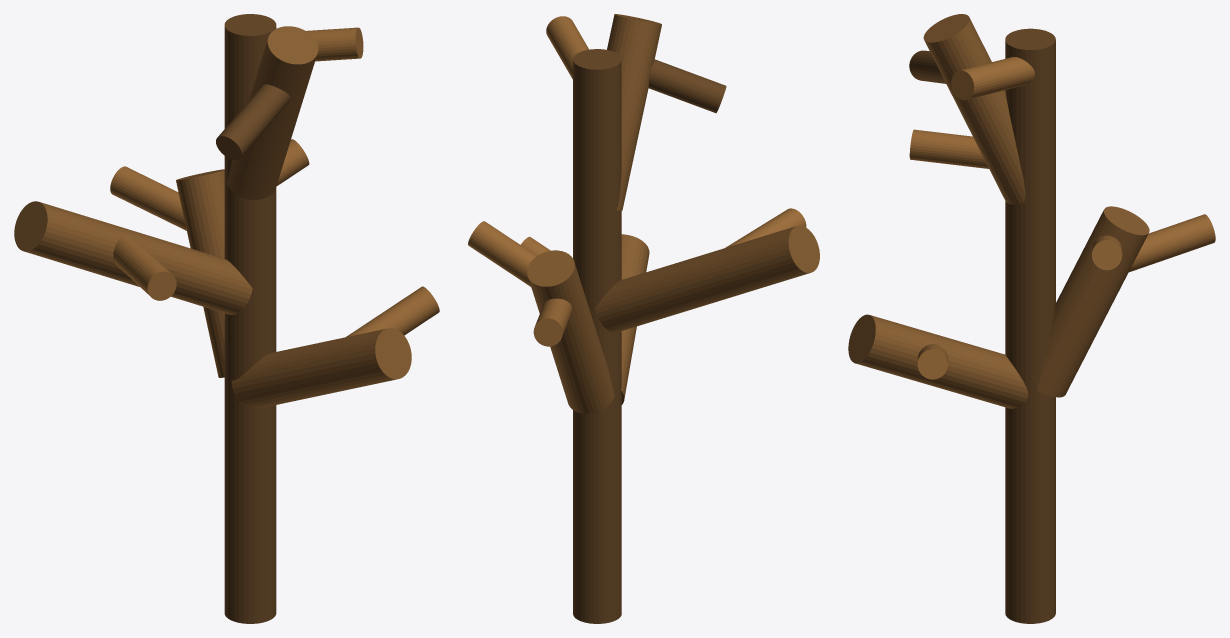
File: tree.fbx
3 views of the same model, side by side, from view 1: azimuth 30°, elevation 25°; view 2: azimuth 150°, elevation 25°; view 3: azimuth 270°, elevation 25° (orthographic). The views are drawn at different scales.
Parts seen in each view (by area): view 1: Cylinder.018; view 2: Cylinder.018; view 3: Cylinder.018.
Part boxes in pixels (left/top/right/bottom): Cylinder.018: left=14, top=14, right=439, bottom=623; Cylinder.018: left=468, top=14, right=819, bottom=623; Cylinder.018: left=848, top=14, right=1215, bottom=623.
Size of the model in its own units: 1623 by 2589 by 1450.
